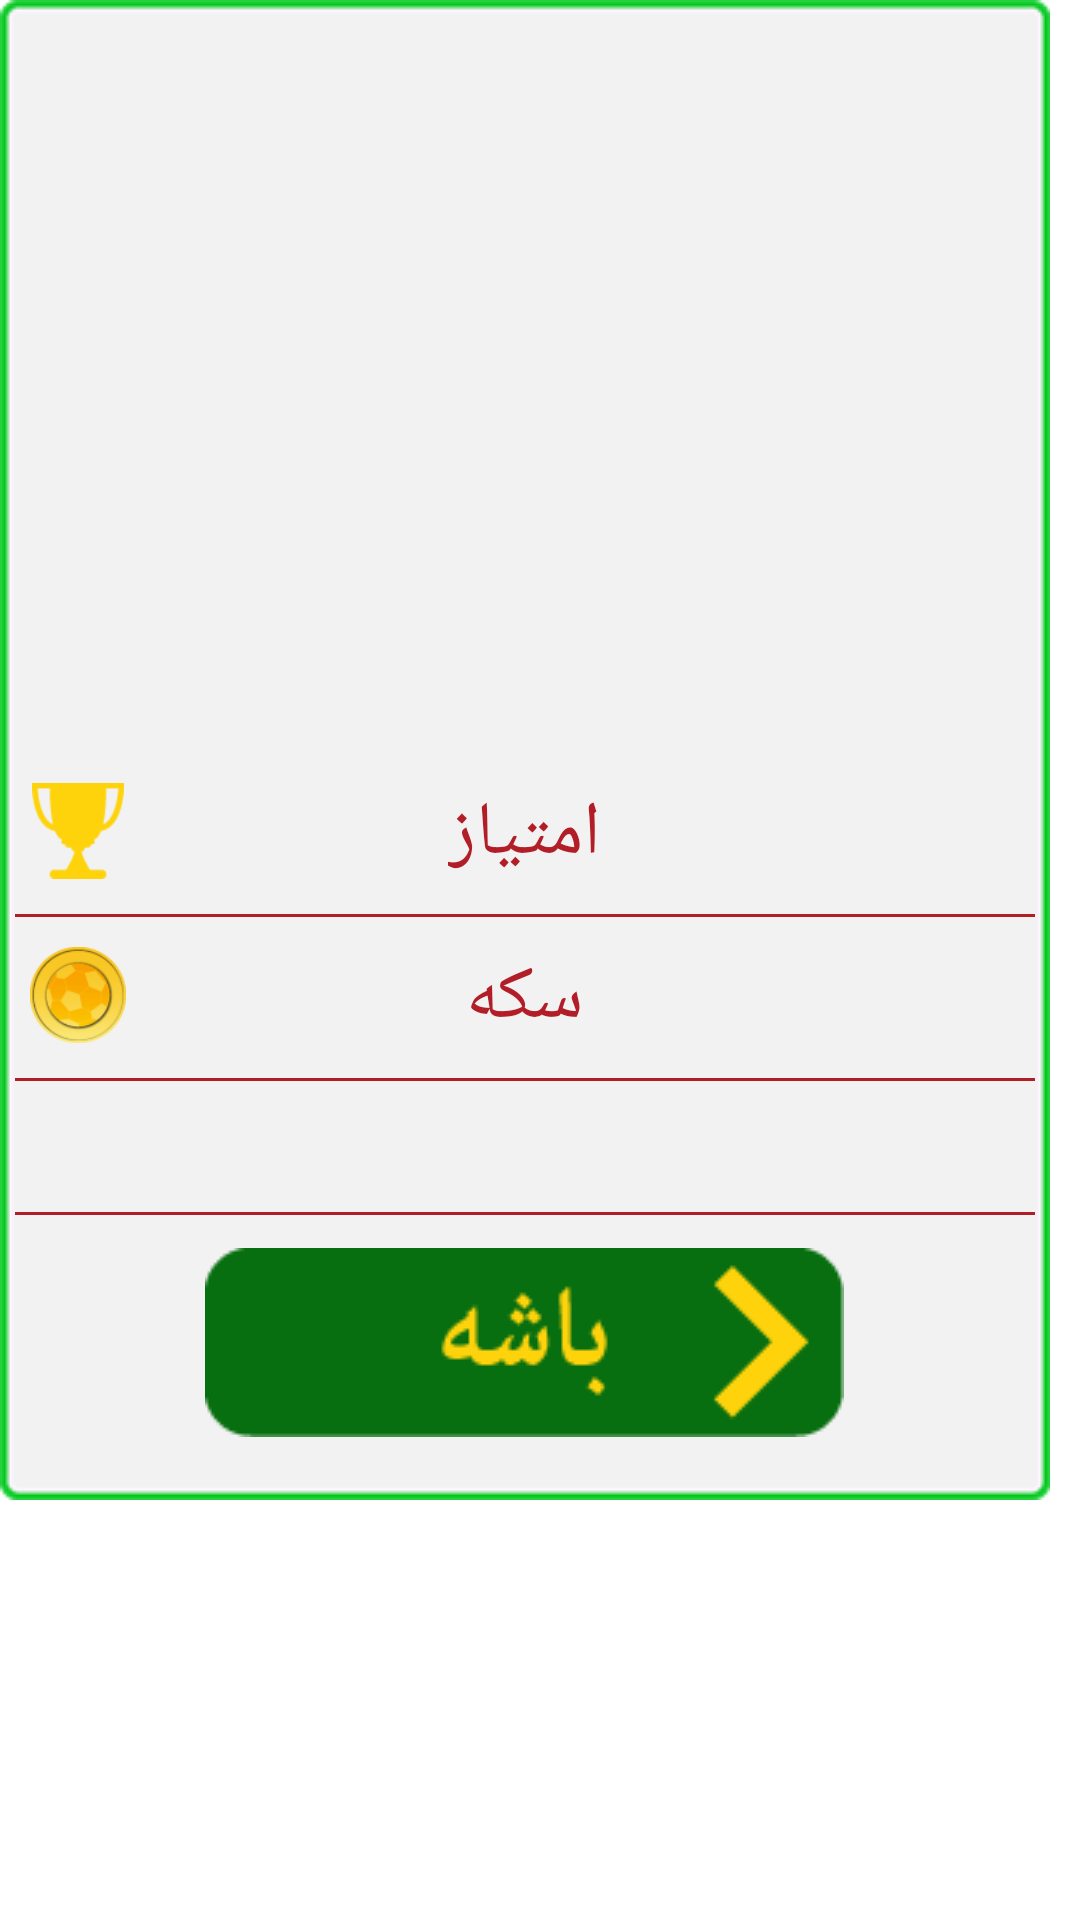

Where icons sit on this 1080px×1920px app screen, as (x1, y1, x2, y2):
coin: (30, 947, 126, 1043)
points: (32, 783, 124, 879)
